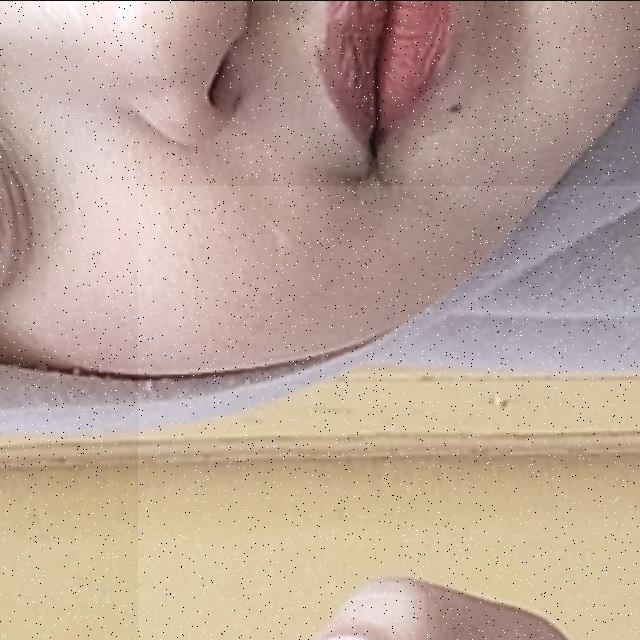baik: (138, 185, 640, 640)
